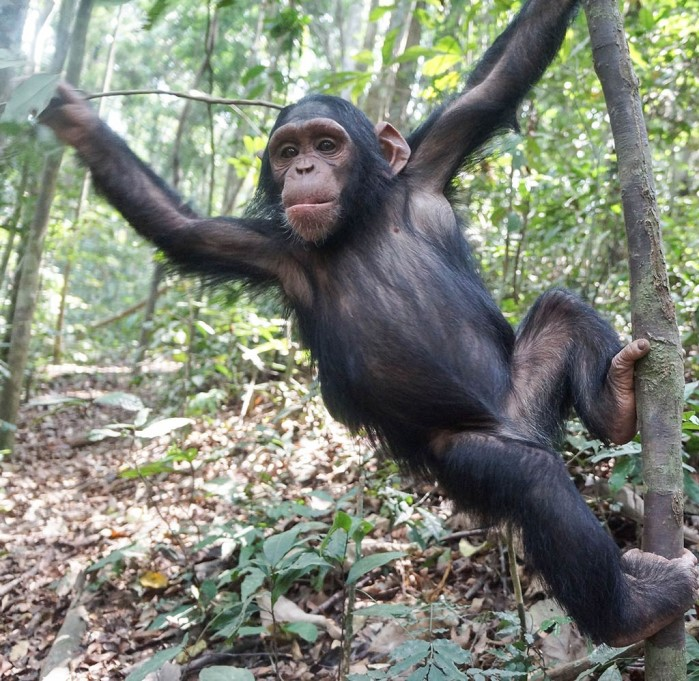Chimpanzee: (243, 78, 630, 526)
